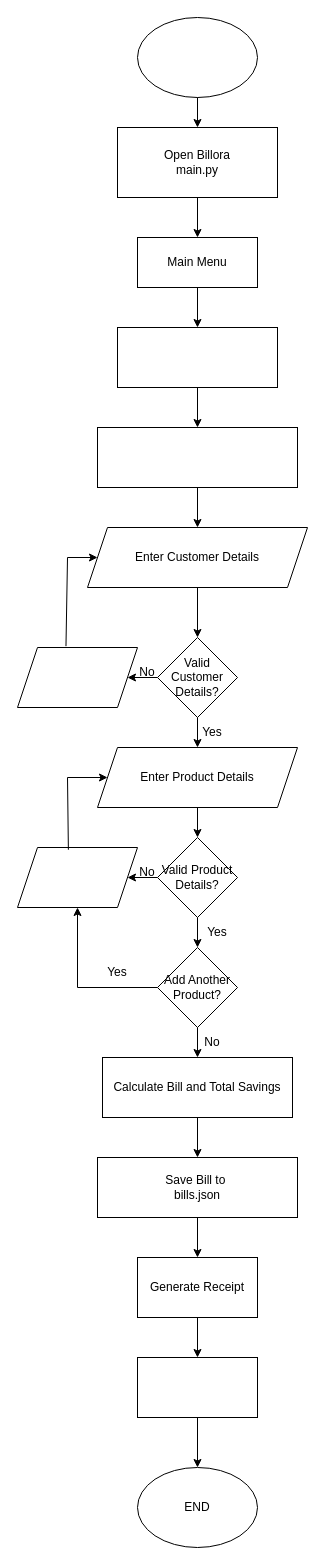
This 325x1565 diagram has some shape labels left out. Each missing label, with the box of its shape:
Create New Bill: (116, 326, 278, 388)
Enter Customer Details Again: (16, 646, 138, 708)
Enter Product Details Again: (16, 846, 138, 908)
Load Shop Information: (96, 426, 298, 488)
Return to Main Menu: (136, 1356, 258, 1418)
START: (136, 16, 258, 98)
